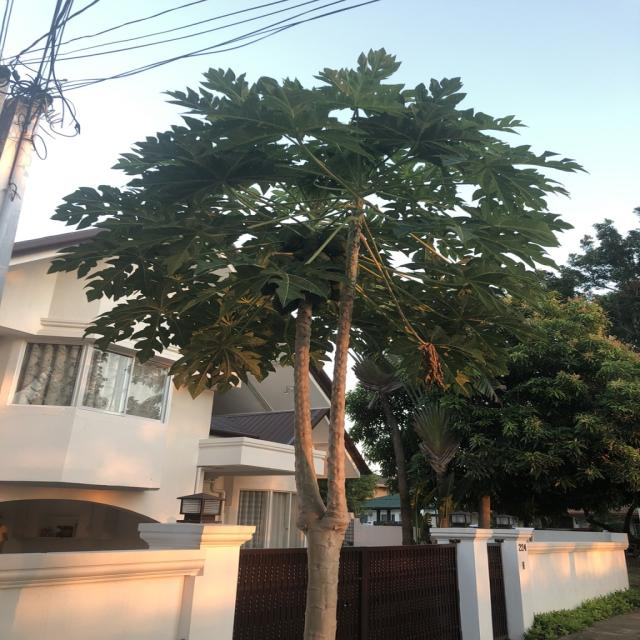Papaya-Tree: (113, 69, 511, 640)
